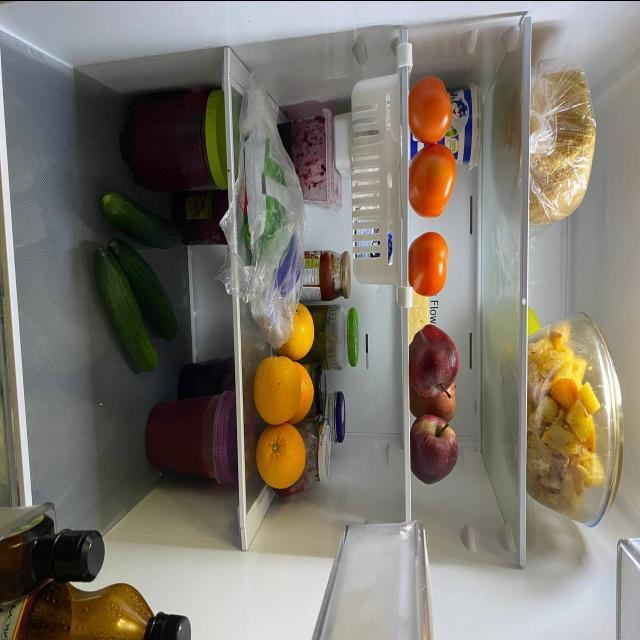Apple: (410, 320, 455, 396), (414, 410, 459, 486), (416, 377, 457, 423)
Cucumber: (92, 234, 162, 378), (112, 232, 188, 342), (93, 175, 181, 242)
Orange: (257, 426, 304, 491), (257, 352, 300, 422), (282, 308, 314, 354), (294, 358, 314, 422)
Tomato: (410, 135, 459, 221), (408, 216, 450, 296), (408, 72, 451, 142)
